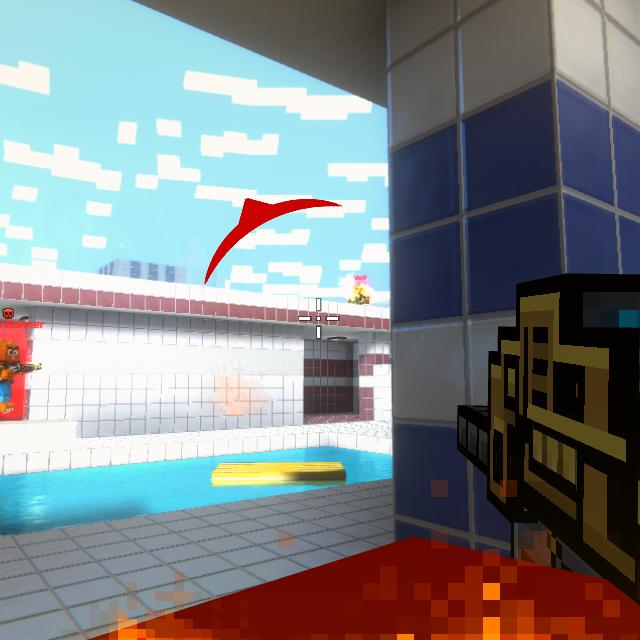Enemy: (0, 342, 27, 413), (348, 284, 370, 303)
